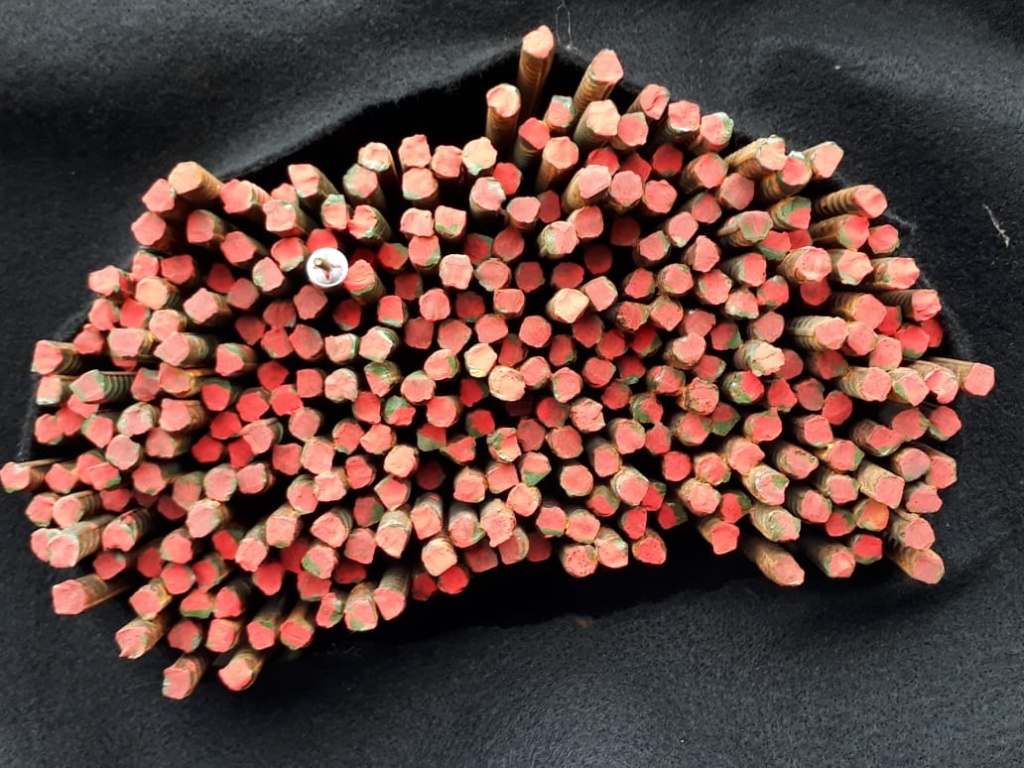dipstick: (462, 136, 497, 175), (374, 476, 409, 513), (746, 343, 786, 375), (486, 83, 522, 118), (376, 524, 411, 560), (481, 509, 515, 546), (439, 254, 472, 292), (470, 177, 505, 212), (218, 178, 253, 213), (490, 367, 525, 402), (153, 332, 189, 366), (925, 367, 959, 403), (521, 25, 554, 62), (158, 363, 196, 395), (344, 164, 378, 199), (141, 178, 175, 213), (184, 288, 218, 323), (115, 625, 150, 659), (373, 588, 407, 623), (554, 288, 588, 323), (895, 373, 929, 408), (838, 251, 873, 285), (722, 174, 755, 210), (343, 259, 376, 295), (295, 285, 328, 321), (365, 363, 401, 396), (402, 169, 439, 201), (52, 579, 84, 616), (588, 100, 619, 138), (287, 476, 318, 514), (814, 141, 845, 179), (693, 153, 727, 187), (433, 205, 467, 239), (168, 160, 202, 194), (301, 442, 335, 476), (290, 325, 323, 360), (929, 406, 962, 441), (895, 325, 930, 358), (796, 247, 831, 280), (853, 184, 888, 217), (492, 226, 524, 262), (272, 237, 304, 273), (593, 49, 624, 86), (689, 376, 719, 414), (475, 257, 508, 291), (312, 514, 346, 547), (767, 509, 801, 542), (828, 439, 862, 472), (895, 406, 928, 440), (852, 294, 885, 328), (887, 256, 920, 290), (778, 196, 812, 229), (131, 213, 166, 245), (360, 328, 392, 363), (489, 428, 521, 463), (738, 210, 773, 242), (730, 372, 765, 404), (861, 367, 893, 402), (756, 134, 787, 170), (252, 258, 285, 291), (324, 369, 357, 402), (731, 440, 764, 473), (904, 518, 937, 551), (651, 142, 683, 176), (644, 180, 676, 214), (570, 206, 604, 238), (543, 221, 577, 253), (205, 468, 237, 502), (221, 232, 255, 264), (344, 600, 378, 632), (422, 544, 456, 576), (559, 465, 593, 497), (573, 400, 607, 432), (756, 473, 790, 505), (838, 216, 870, 250), (618, 112, 649, 147), (611, 171, 642, 206), (449, 515, 484, 546), (563, 546, 598, 577), (696, 272, 731, 303), (400, 133, 430, 169), (260, 201, 296, 231), (782, 448, 818, 478), (868, 425, 904, 455), (640, 82, 669, 119), (578, 166, 611, 198), (669, 99, 701, 132), (701, 112, 734, 144), (287, 164, 319, 197), (30, 341, 63, 373), (549, 426, 582, 458), (630, 391, 663, 423), (857, 499, 889, 532), (781, 153, 813, 186), (128, 589, 162, 620), (161, 563, 195, 594), (410, 505, 441, 539), (401, 371, 435, 402), (586, 276, 617, 310), (801, 489, 832, 523), (814, 349, 849, 379), (928, 455, 957, 491), (168, 620, 200, 652), (271, 444, 303, 476), (289, 409, 321, 441), (651, 298, 683, 330), (432, 146, 463, 179), (132, 462, 163, 495), (53, 497, 84, 530), (31, 529, 62, 562), (48, 535, 79, 568), (436, 564, 469, 595), (404, 317, 435, 350), (419, 287, 450, 320), (438, 321, 471, 352), (898, 449, 929, 482), (964, 363, 995, 396), (869, 338, 902, 369), (910, 289, 941, 322), (102, 521, 136, 551), (235, 538, 265, 572), (678, 413, 712, 443), (697, 453, 731, 483), (823, 390, 853, 424), (748, 411, 782, 441), (768, 379, 798, 413), (814, 319, 848, 349), (544, 137, 579, 166), (669, 211, 698, 246), (348, 204, 377, 239), (301, 548, 336, 577), (107, 329, 143, 357), (410, 235, 441, 267), (72, 370, 104, 401), (200, 379, 231, 411), (384, 446, 416, 477), (520, 316, 552, 347), (567, 513, 599, 544), (597, 537, 629, 568), (758, 275, 790, 306), (401, 208, 434, 238), (136, 279, 169, 309), (27, 495, 57, 528), (159, 534, 192, 564), (241, 423, 274, 453), (466, 344, 496, 377), (572, 314, 602, 347), (546, 92, 575, 126), (108, 437, 137, 471), (131, 367, 160, 401), (219, 662, 253, 691), (206, 619, 235, 653), (297, 571, 331, 600), (382, 395, 416, 424), (475, 314, 509, 343), (500, 529, 528, 564), (463, 233, 494, 264), (333, 424, 364, 455), (344, 532, 375, 563), (614, 421, 645, 452), (721, 492, 752, 523), (847, 323, 878, 354), (753, 310, 784, 341), (520, 118, 550, 150), (89, 265, 121, 295), (514, 262, 546, 292), (640, 230, 670, 262), (492, 162, 521, 195), (359, 142, 392, 171), (161, 255, 194, 284), (215, 344, 244, 377), (345, 457, 374, 490), (795, 378, 824, 411), (516, 417, 544, 451), (553, 368, 580, 403), (907, 486, 942, 513), (161, 401, 192, 431), (187, 506, 217, 537), (211, 410, 242, 440), (362, 424, 393, 454), (353, 497, 384, 527), (426, 349, 457, 379), (625, 267, 655, 298), (537, 507, 567, 538), (83, 415, 112, 447), (145, 428, 177, 457), (161, 667, 190, 699), (253, 563, 282, 595), (264, 299, 296, 328), (619, 474, 648, 506), (185, 211, 213, 244), (93, 552, 126, 580), (173, 475, 201, 508), (672, 334, 705, 362), (463, 547, 498, 573), (120, 299, 150, 329), (228, 279, 258, 309), (487, 463, 517, 493), (611, 217, 641, 247), (663, 264, 693, 294), (265, 517, 294, 548), (262, 329, 293, 358), (508, 487, 539, 516), (584, 358, 615, 387), (689, 483, 720, 512), (709, 406, 740, 435), (692, 192, 720, 224), (507, 195, 539, 223), (118, 406, 150, 434), (193, 557, 221, 589), (214, 529, 242, 561), (353, 392, 381, 424), (876, 476, 904, 508), (149, 311, 182, 338), (180, 591, 213, 618), (279, 622, 312, 649), (377, 295, 404, 328), (236, 394, 269, 421), (651, 366, 684, 393), (739, 252, 766, 285), (317, 594, 342, 629), (88, 299, 117, 329), (1, 462, 30, 492), (235, 315, 264, 345), (427, 397, 456, 427), (538, 398, 568, 427), (871, 225, 900, 255), (333, 300, 361, 331), (258, 362, 289, 390), (523, 455, 551, 486), (712, 323, 743, 351), (728, 290, 759, 318), (804, 415, 832, 446), (271, 387, 303, 414), (552, 262, 584, 289), (635, 537, 667, 564), (824, 509, 856, 536), (827, 475, 859, 502), (322, 195, 347, 229), (46, 463, 75, 492), (246, 622, 275, 651), (853, 535, 882, 564), (237, 464, 265, 494), (392, 272, 422, 300), (618, 303, 648, 331), (631, 329, 661, 357), (315, 474, 346, 501), (325, 334, 356, 361), (777, 349, 804, 380), (600, 328, 626, 360), (773, 560, 805, 586), (696, 235, 719, 271), (452, 477, 485, 502), (684, 310, 717, 335), (585, 146, 619, 170), (456, 293, 484, 322), (585, 245, 613, 274), (589, 487, 618, 515), (761, 231, 789, 260), (379, 243, 409, 270), (621, 508, 648, 538), (711, 526, 741, 553), (914, 556, 944, 583), (35, 416, 62, 445), (214, 589, 241, 618), (192, 436, 221, 463), (417, 463, 446, 490), (465, 409, 494, 436), (663, 451, 690, 480), (132, 251, 158, 281), (308, 228, 338, 254), (417, 425, 447, 451), (523, 356, 549, 386), (696, 354, 727, 379), (207, 264, 235, 291), (498, 336, 525, 364), (603, 382, 631, 409), (660, 503, 688, 530), (297, 369, 323, 398), (459, 379, 488, 405), (801, 281, 831, 306), (494, 290, 525, 314), (618, 357, 646, 383), (74, 328, 103, 353), (525, 532, 550, 561), (594, 447, 619, 476), (90, 464, 120, 488), (335, 561, 366, 584), (551, 334, 574, 365), (538, 189, 560, 221), (827, 551, 854, 577), (228, 440, 253, 468), (412, 574, 437, 602), (138, 547, 162, 576), (880, 305, 903, 335), (448, 436, 475, 461), (647, 424, 670, 453), (101, 490, 131, 512), (920, 318, 942, 348), (36, 378, 61, 404), (66, 397, 98, 417), (159, 498, 186, 520), (643, 482, 664, 510), (57, 410, 80, 435), (77, 456, 100, 481), (787, 229, 813, 247)
